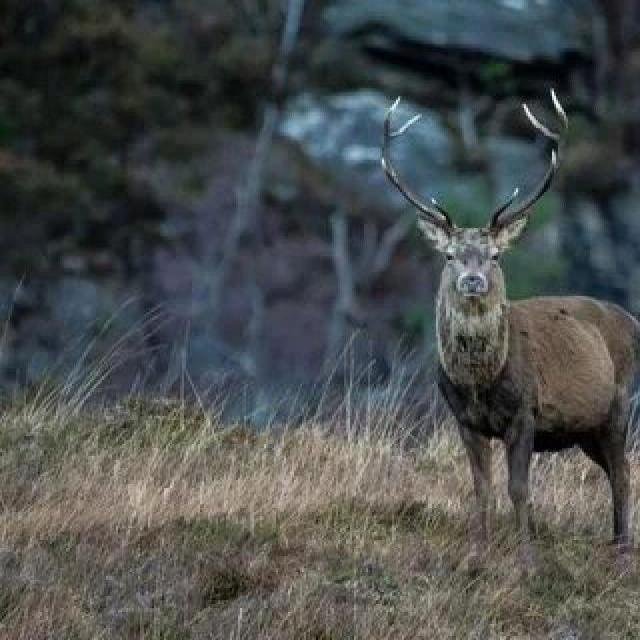deer: (340, 126, 640, 534)
